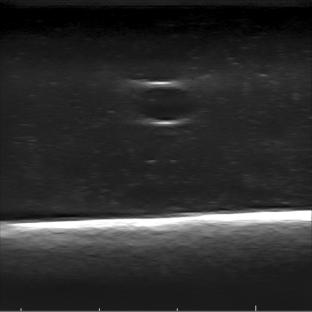vessel: (131, 81, 201, 126)
